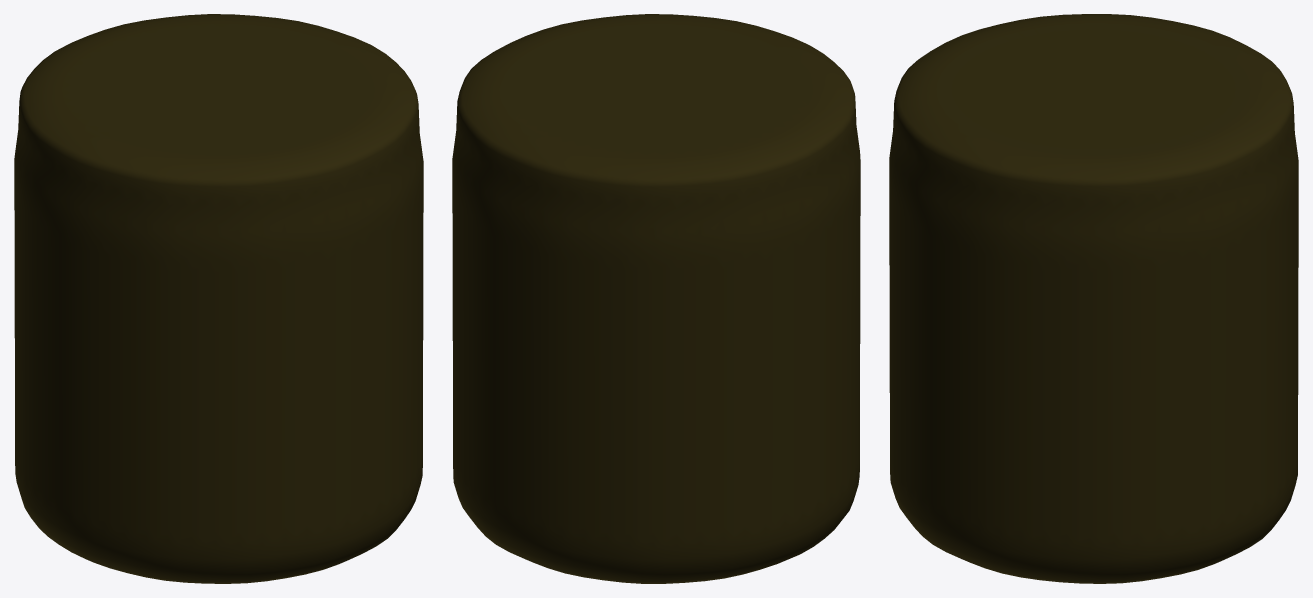
File: terrace thing.fbx
3 views of the same model, side by side, from view 1: azimuth 30°, elevation 25°; view 2: azimuth 150°, elevation 25°; view 3: azimuth 270°, elevation 25° (orthographic).
Visible parts, largest first — view 1: Basket_Bedroom_LOD0; view 2: Basket_Bedroom_LOD0; view 3: Basket_Bedroom_LOD0.
Boxes of the visible parts, box(x1,y1,x2,y2) form: Basket_Bedroom_LOD0: box(14, 14, 423, 583); Basket_Bedroom_LOD0: box(452, 14, 860, 583); Basket_Bedroom_LOD0: box(889, 14, 1298, 583).
Bounding box in the file's own units: 36.66 × 41.54 × 36.77.
